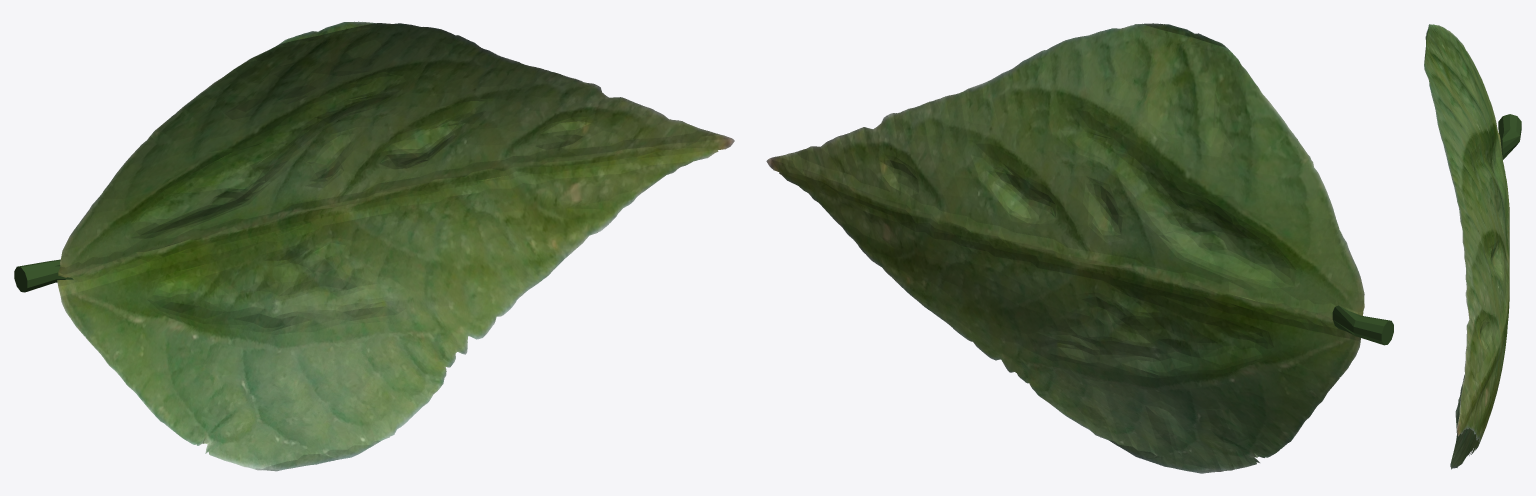
File: SoybeanLeaf.obj
The picture shows the model from 3 angles, left to right: view 1: azimuth 30°, elevation 25°; view 2: azimuth 150°, elevation 25°; view 3: azimuth 270°, elevation 25°; orthographic projection. The views are drawn at different scales.
Parts seen in each view (by area): view 1: Plane, Cylinder; view 2: Plane, Cylinder; view 3: Plane, Cylinder.
Boxes of the visible parts, x1,y1,x2,y2 form: Plane: (57,21,734,471); Cylinder: (14,259,73,292); Plane: (766,23,1364,473); Cylinder: (1332,305,1393,345); Plane: (1424,24,1509,469); Cylinder: (1498,114,1521,159).
Size of the model in its own units: 1.02 by 0.6504 by 0.1413.
2 materials, 1 textured.
